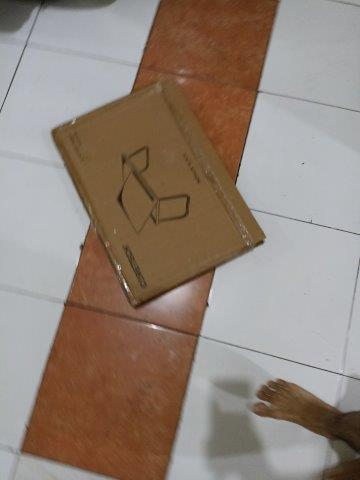kardus: (55, 84, 262, 304)
